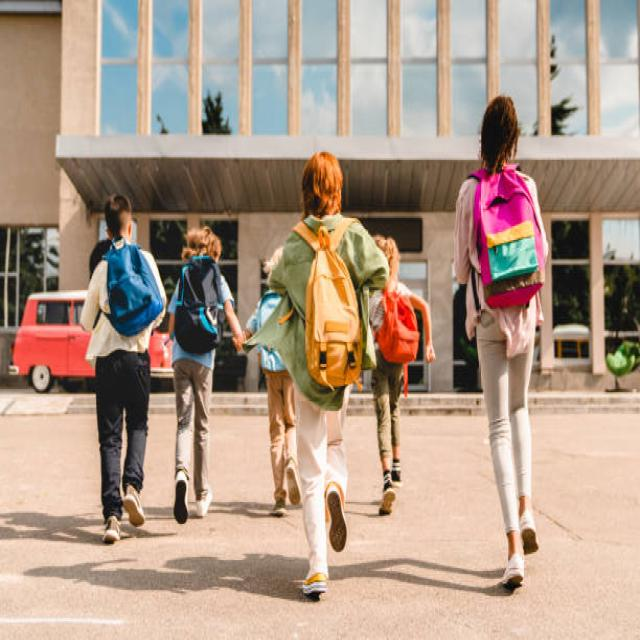bags: (294, 218, 361, 387), (474, 165, 544, 306), (104, 240, 163, 334), (175, 256, 221, 353), (376, 293, 419, 367)
hands: (410, 293, 435, 361), (224, 300, 243, 350)
person: (246, 152, 387, 596), (87, 253, 165, 543), (173, 337, 214, 522), (169, 227, 216, 325), (81, 260, 109, 328), (107, 196, 132, 254), (215, 276, 236, 323)
